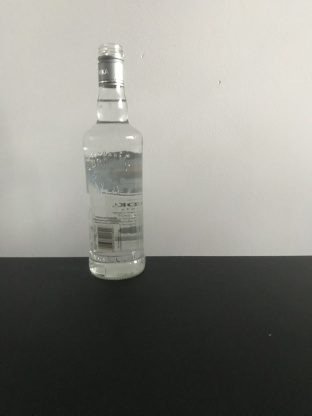nakretka: (96, 43, 125, 88)
